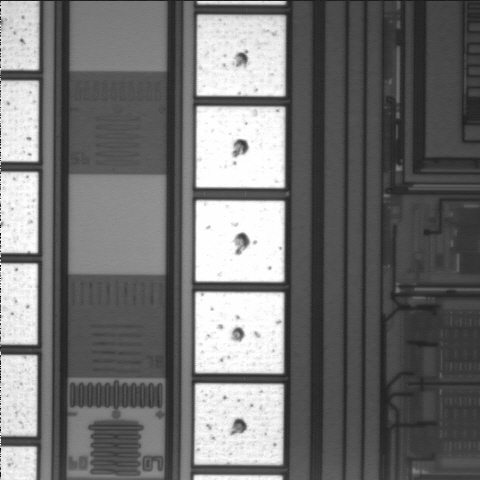pad: (195, 200, 285, 282), (196, 106, 285, 188), (194, 383, 283, 465), (195, 292, 284, 373), (197, 15, 285, 96)
